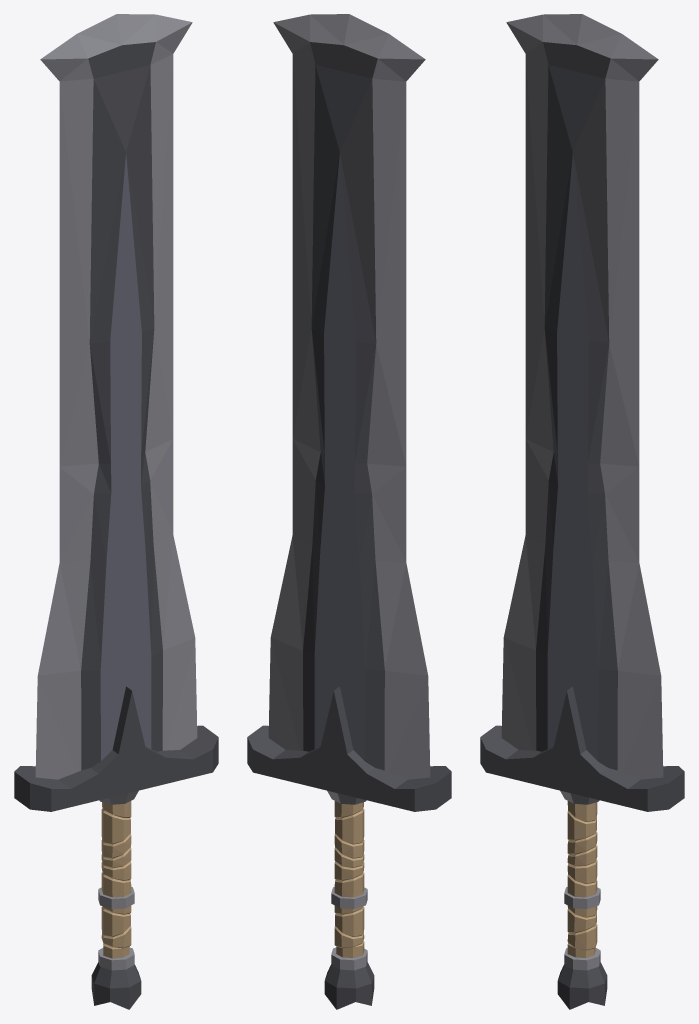
Rendered from _sword_24.fbx.
The picture shows the model from 3 angles, left to right: view 1: azimuth 30°, elevation 25°; view 2: azimuth 150°, elevation 25°; view 3: azimuth 330°, elevation 25°; orthographic projection.
Visible parts, largest first — view 1: sword_24; view 2: sword_24; view 3: sword_24.
Part boxes in pixels (x1,y1,x2,y2): sword_24: [14, 14, 218, 1009]; sword_24: [247, 14, 451, 1009]; sword_24: [480, 14, 684, 1009].
Size of the model in its own units: 28.83 by 144 by 8.28.
